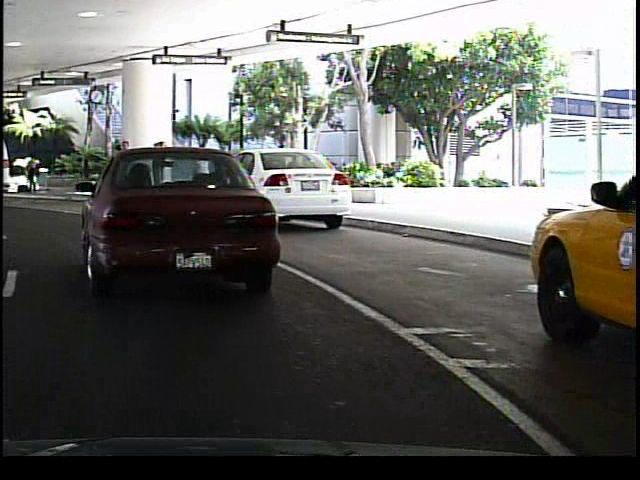person: (111, 136, 134, 199), (188, 142, 213, 193), (148, 138, 169, 194), (22, 153, 41, 197)
